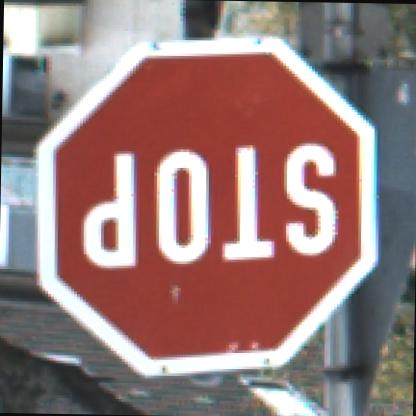stop: (27, 32, 384, 389)
